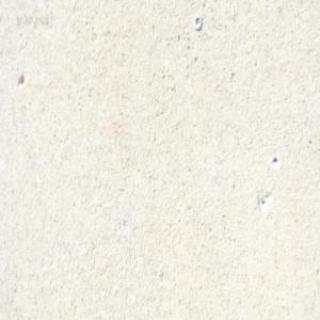Washertrack_idkeyframe: (194, 13, 202, 30)
